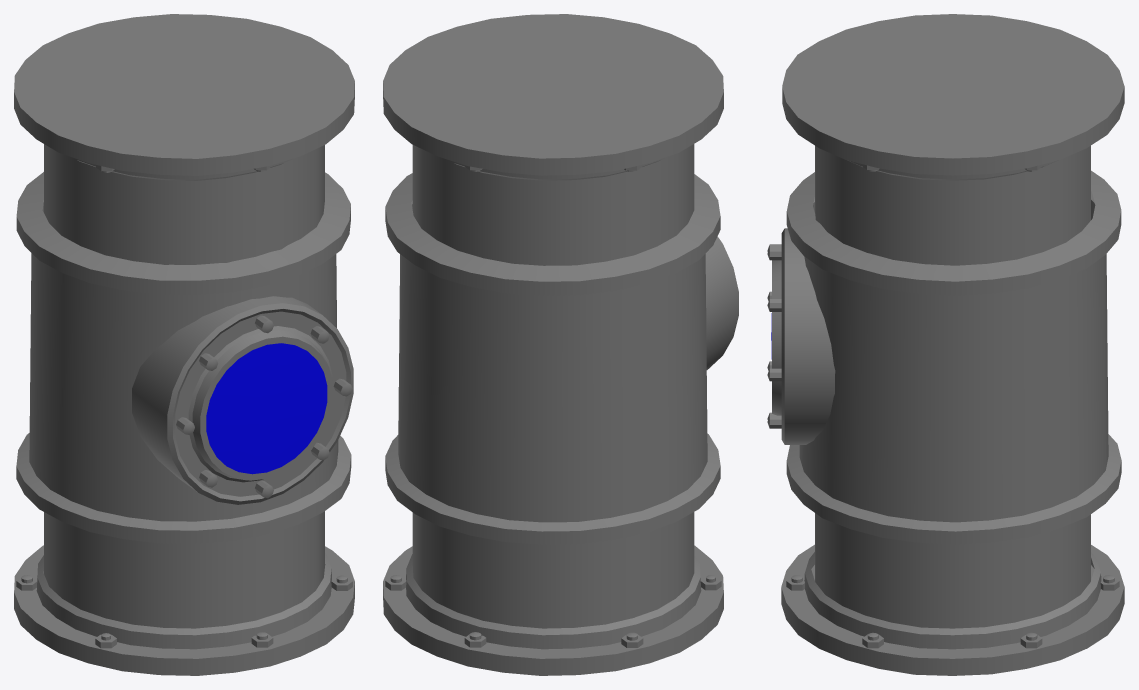
File: SM_PipeShort1InstrumentCap.FBX
The picture shows the model from 3 angles, left to right: view 1: azimuth 30°, elevation 25°; view 2: azimuth 150°, elevation 25°; view 3: azimuth 270°, elevation 25°; orthographic projection.
Visible parts, largest first — view 1: SM_PipeShort1InstrumentCap_LOD0; view 2: SM_PipeShort1InstrumentCap_LOD0; view 3: SM_PipeShort1InstrumentCap_LOD0.
Part boxes in pixels (x1=…): SM_PipeShort1InstrumentCap_LOD0: x1=14, y1=14, x2=354, y2=675; SM_PipeShort1InstrumentCap_LOD0: x1=383, y1=14, x2=738, y2=675; SM_PipeShort1InstrumentCap_LOD0: x1=767, y1=14, x2=1124, y2=675.
Size of what is drawn, in the model's own units: 35.42 by 59.14 by 36.99.
